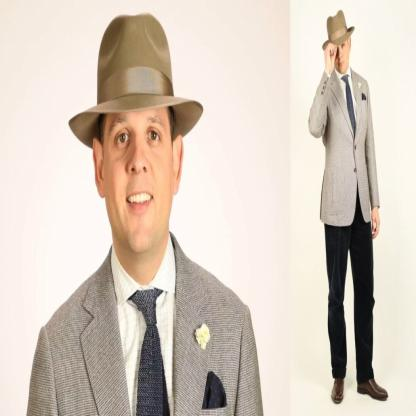hat: (66, 11, 205, 157), (318, 8, 358, 52)
